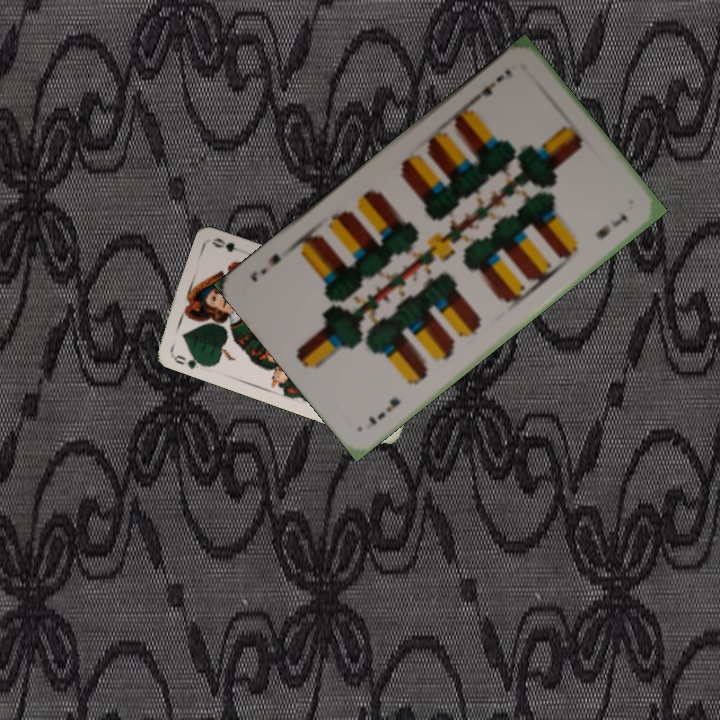E7: (468, 64, 516, 105), (364, 393, 403, 428)
GO: (168, 349, 208, 372)
